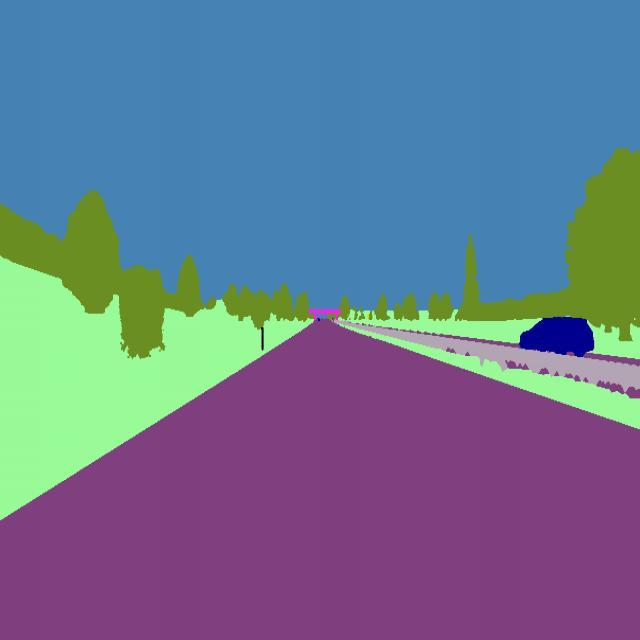safe: (518, 312, 598, 362)
